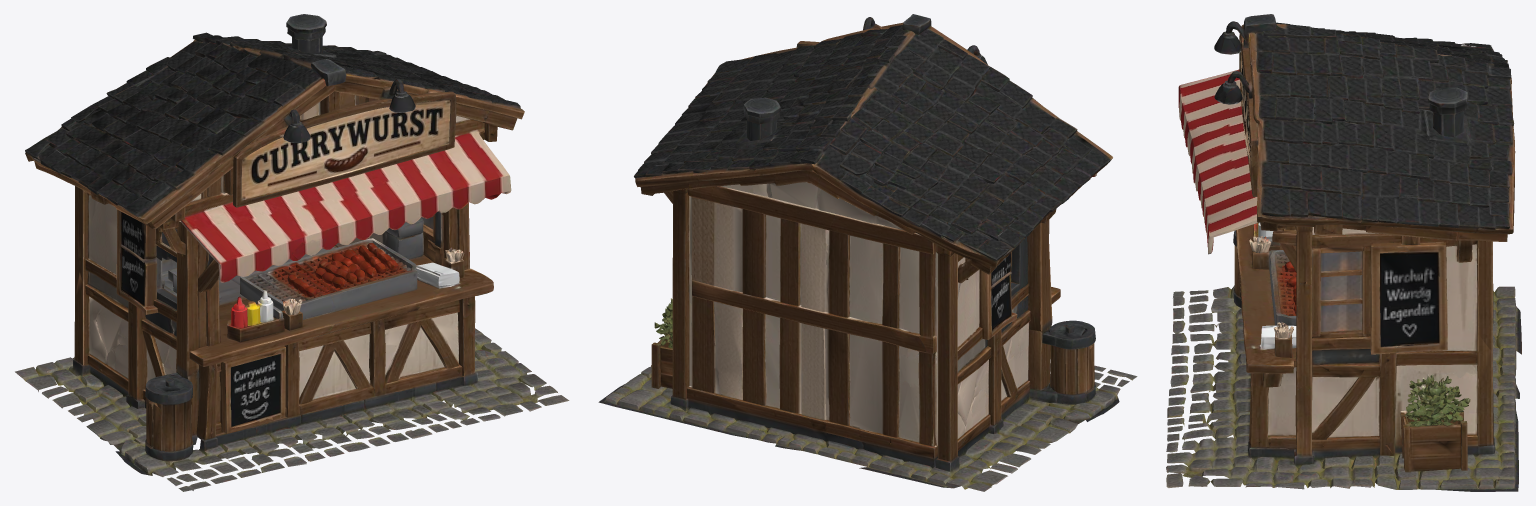
Rendered from currywurst.glb.
3 renders of one model, left to right at view 1: azimuth 30°, elevation 25°; view 2: azimuth 150°, elevation 25°; view 3: azimuth 270°, elevation 25°, orthographic. The views are drawn at different scales.
Parts seen in each view (by area): view 1: s.glb; view 2: s.glb; view 3: s.glb.
Boxes of the visible parts, left/top/right/bottom form: s.glb: left=15, top=14, right=569, bottom=491; s.glb: left=598, top=14, right=1137, bottom=491; s.glb: left=1166, top=14, right=1521, bottom=491.
Size of the model in its own units: 1.9 by 1.59 by 1.39.
1 material, 1 textured.
